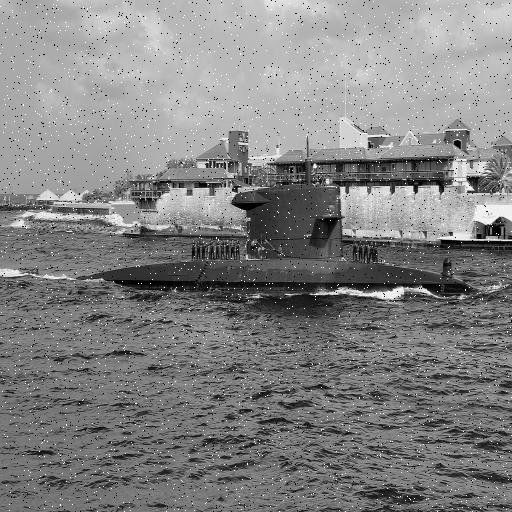submarine: (75, 183, 494, 303)
